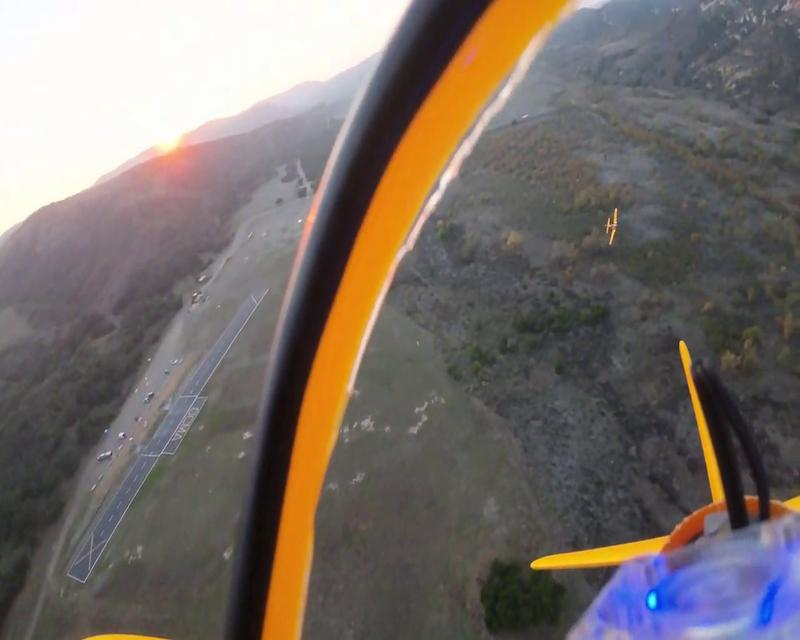UAV: (605, 208, 620, 245)
